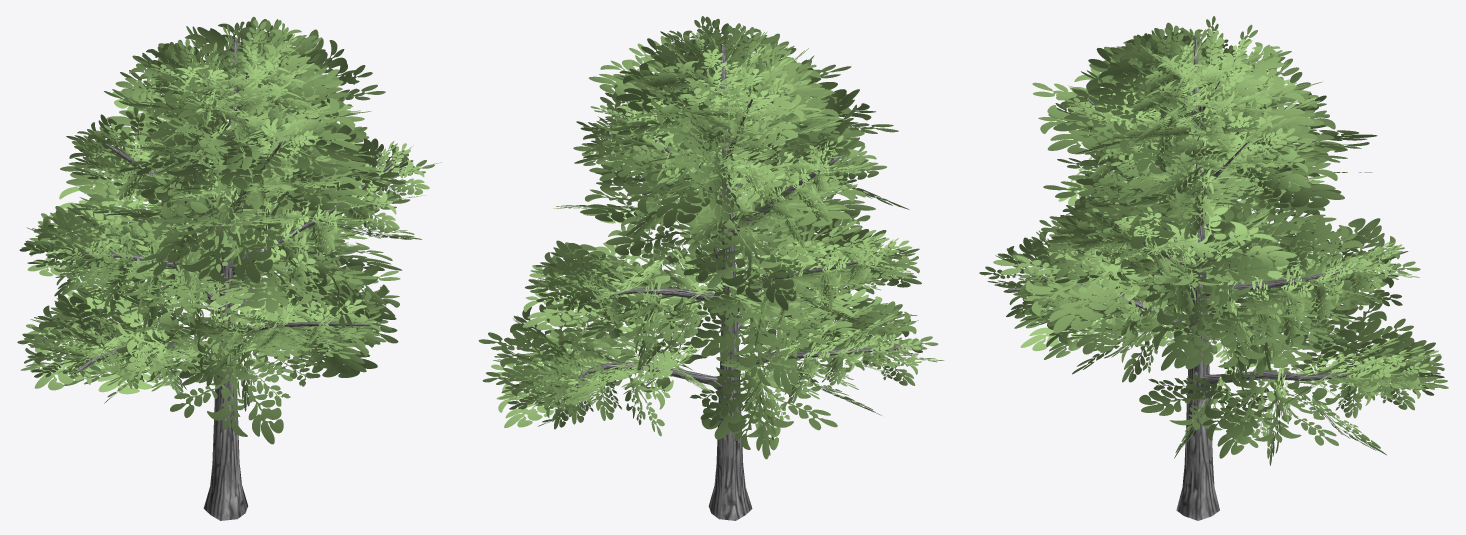
The model's file is arvore-anime.glb.
3 views of the same model, side by side, from view 1: azimuth 30°, elevation 25°; view 2: azimuth 150°, elevation 25°; view 3: azimuth 270°, elevation 25° (orthographic). The views are drawn at different scales.
Parts seen in each view (by area): view 1: Tree01_jbm_m_Leaves_M_0, Tree01_jbm_m_trunk_M_0; view 2: Tree01_jbm_m_Leaves_M_0, Tree01_jbm_m_trunk_M_0; view 3: Tree01_jbm_m_Leaves_M_0, Tree01_jbm_m_trunk_M_0.
Part boxes in pixels (x1,y1,x2,y2): Tree01_jbm_m_Leaves_M_0: [17, 17, 441, 444]; Tree01_jbm_m_trunk_M_0: [73, 37, 411, 520]; Tree01_jbm_m_Leaves_M_0: [478, 16, 944, 459]; Tree01_jbm_m_trunk_M_0: [576, 45, 923, 520]; Tree01_jbm_m_Leaves_M_0: [979, 16, 1448, 465]; Tree01_jbm_m_trunk_M_0: [1008, 38, 1391, 520].
Size of the model in its own units: 11.2 by 13.13 by 11.6.
2 materials, 2 textured.
